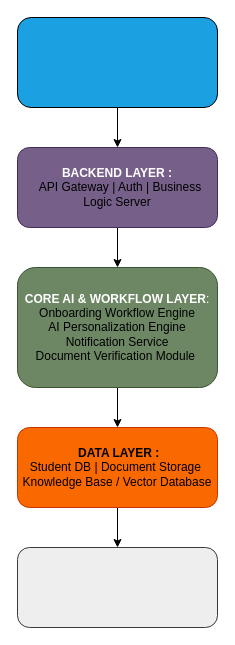
Some shapes in this 235 by 645 pixel diagram are drawn without their labels. Each missing label, with the box of its shape:
EXTERNAL INTEGRATIONS: LMS | Payment Gateway | Email/SMS: (16, 546, 218, 628)
FRONTEND LAYER: Student App Web Portal Chatbot Admin Dashboard: (16, 16, 218, 108)
